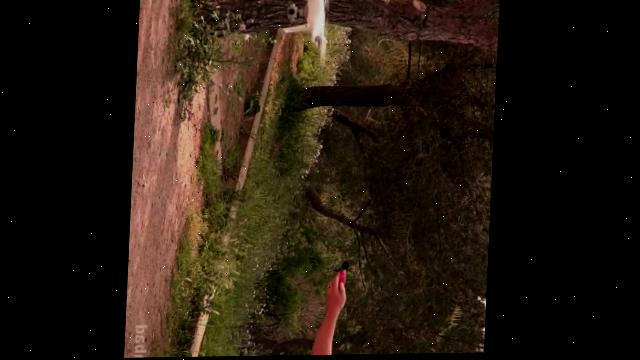drone: (283, 0, 331, 64)
